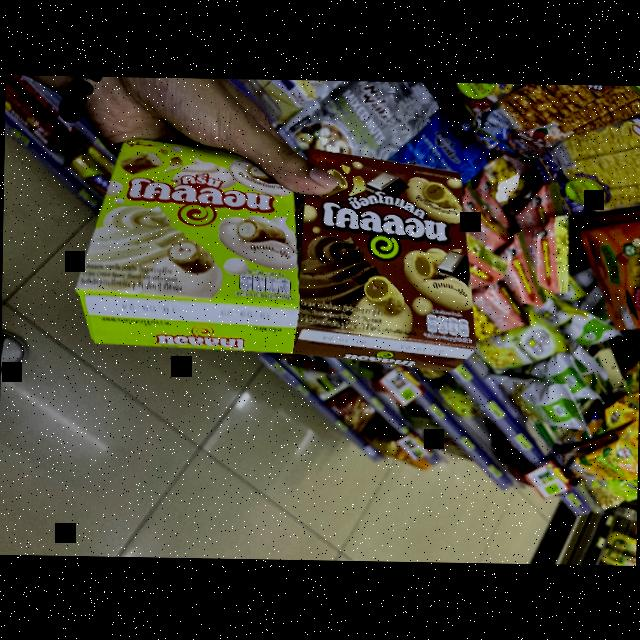cardboard_box: (65, 120, 310, 365), (278, 129, 482, 381)
